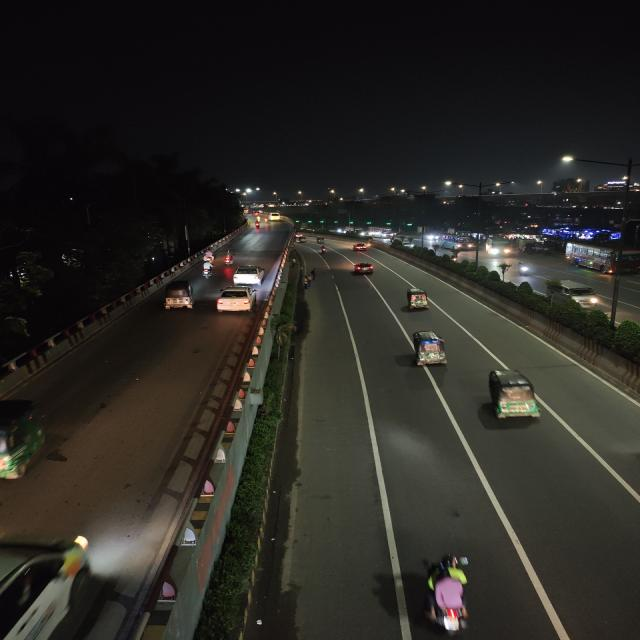bus: (565, 240, 640, 277), (484, 235, 516, 257), (441, 234, 476, 252)
car: (544, 280, 603, 308), (214, 286, 258, 314), (230, 264, 264, 286), (351, 260, 376, 276), (351, 242, 371, 253)
cng: (0, 395, 54, 487), (481, 366, 551, 426), (407, 328, 454, 371), (161, 279, 196, 313), (400, 286, 432, 312), (296, 235, 306, 244), (315, 236, 326, 244)
motorcycle: (516, 260, 533, 278), (200, 261, 214, 277), (221, 250, 235, 266), (202, 252, 215, 264), (317, 245, 329, 255), (252, 222, 263, 232)
pedestrian: (299, 275, 312, 291)
